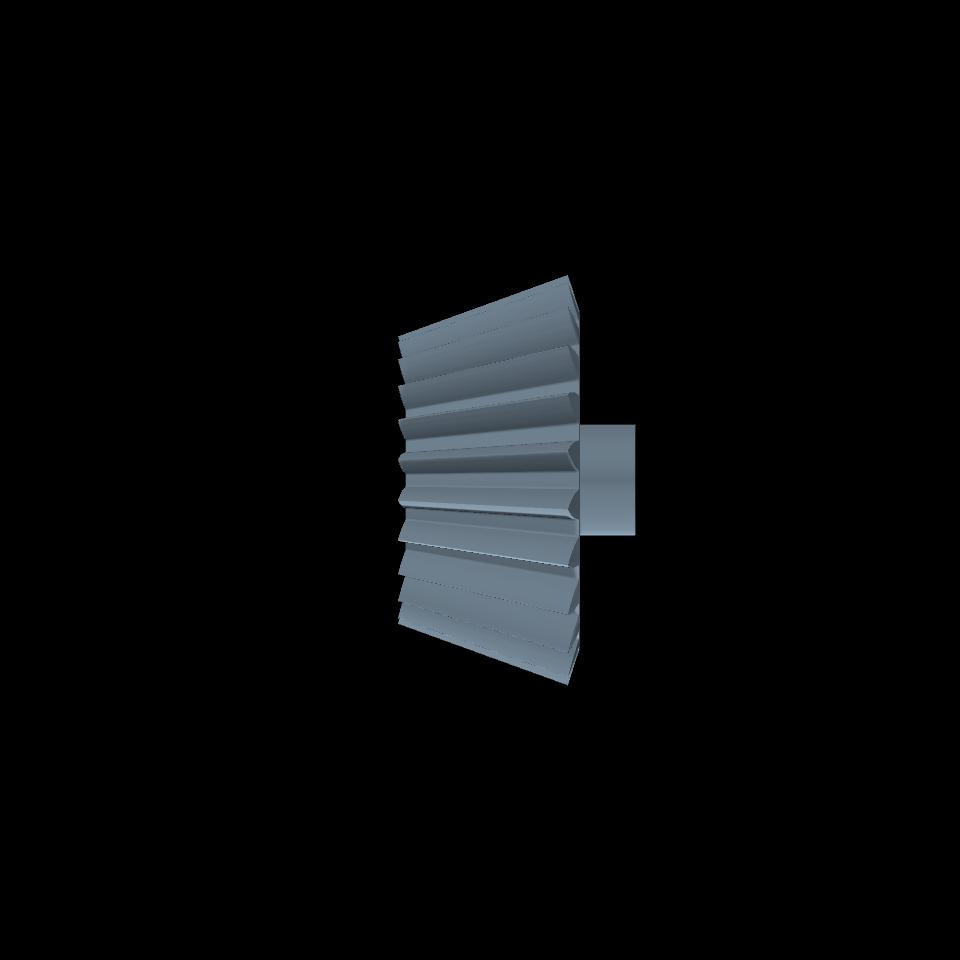Bevel: (398, 275, 580, 685)
